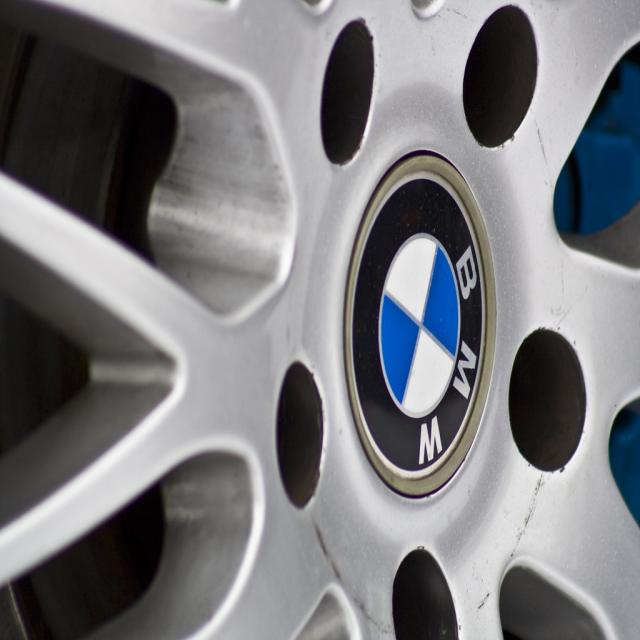bmw: (340, 142, 502, 507)
